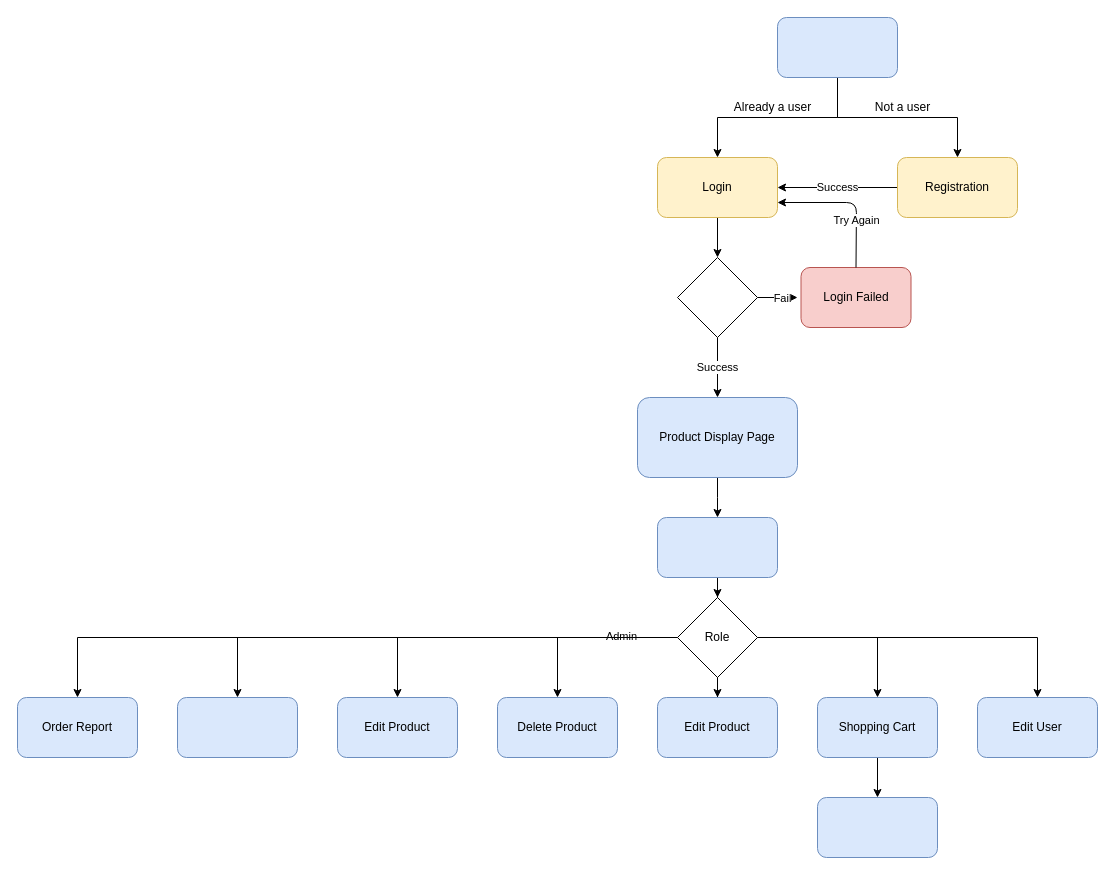
Image size: 1115x875. Some labels were removed from this diagram. Here are the shapes that lost their labels. From the top down, the centre of each, then its label:
point 837,47: Home Page
point 717,297: Validate
point 717,547: Product Details
point 237,727: Add Product
point 877,827: Check Out Page
